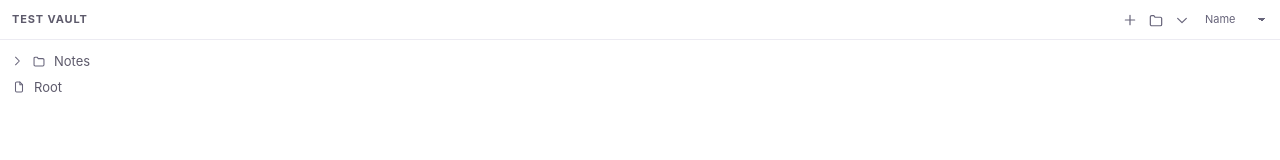
FileExplorer — large vaults › keeps the nested markup for a vault small enough not to need windowing
Click the list item "Notes". click: (72, 61)
box: [10,53,90,69]
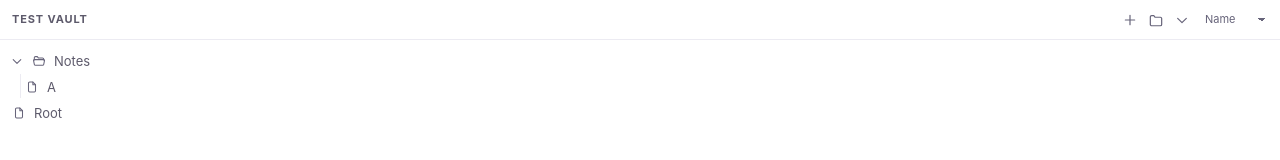
Expected: the element with class "nav-folder-children" is shown, [25,79,56,95]
